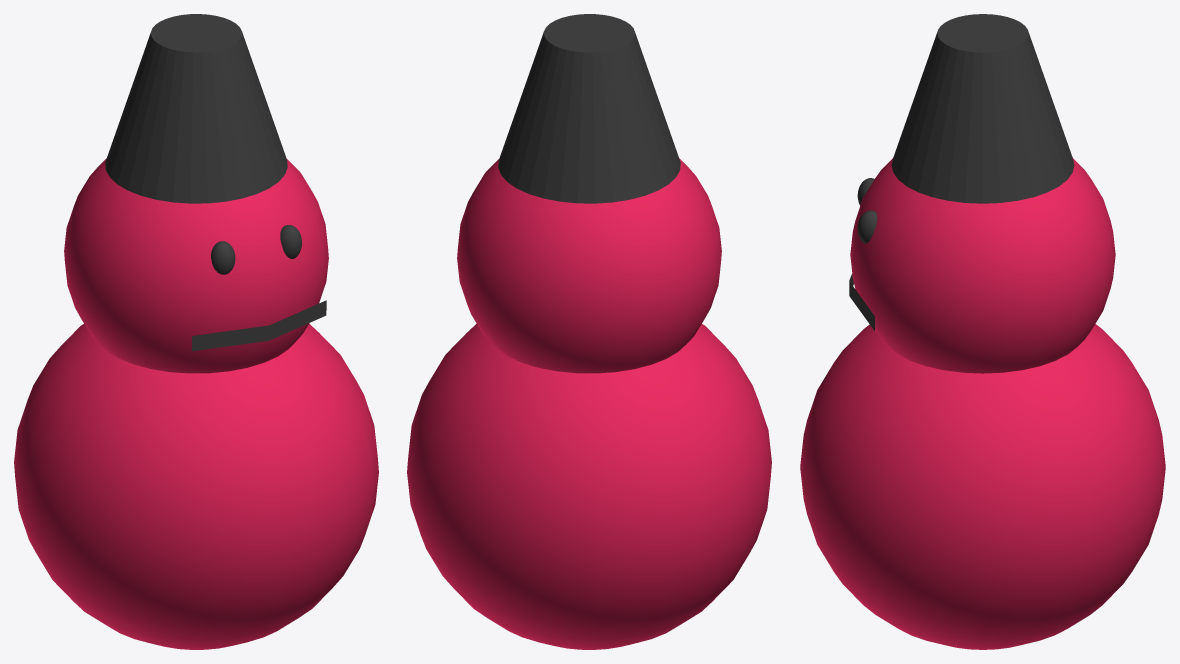
The model's file is yuki.fbx.
3 views of the same model, side by side, from view 1: azimuth 30°, elevation 25°; view 2: azimuth 150°, elevation 25°; view 3: azimuth 270°, elevation 25° (orthographic).
Visible parts, largest first — view 1: 球, 球.001, 円柱, 平面, 球.002, 球.003; view 2: 球, 球.001, 円柱; view 3: 球, 球.001, 円柱.
Part boxes in pixels (<box>): 球: <box>14,323,378,649</box>; 球.001: <box>64,158,328,373</box>; 円柱: <box>105,14,287,203</box>; 平面: <box>191,300,326,351</box>; 球.002: <box>211,241,235,274</box>; 球.003: <box>280,225,301,258</box>; 球: <box>407,323,771,649</box>; 球.001: <box>457,158,721,373</box>; 円柱: <box>498,14,680,203</box>; 球: <box>800,324,1165,649</box>; 球.001: <box>850,158,1115,373</box>; 円柱: <box>891,14,1074,203</box>.
Bounding box in the file's own units: 400 × 724 × 400.
